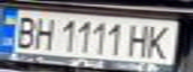1: (54, 17, 78, 53), (106, 20, 127, 56), (72, 19, 93, 53), (90, 19, 109, 55)
B: (9, 12, 42, 50)
H: (124, 21, 154, 59), (30, 15, 57, 51)
K: (142, 22, 178, 60)
